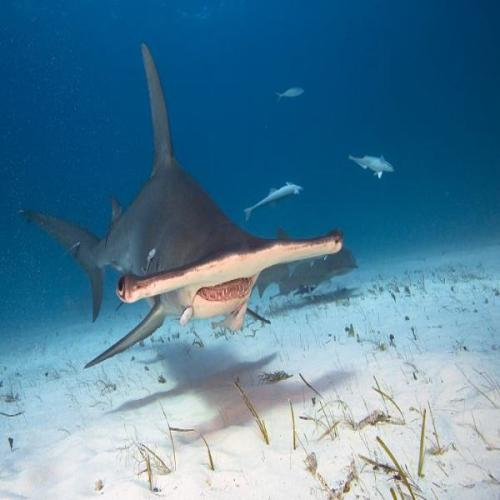shark-endangered: (23, 41, 344, 374)
